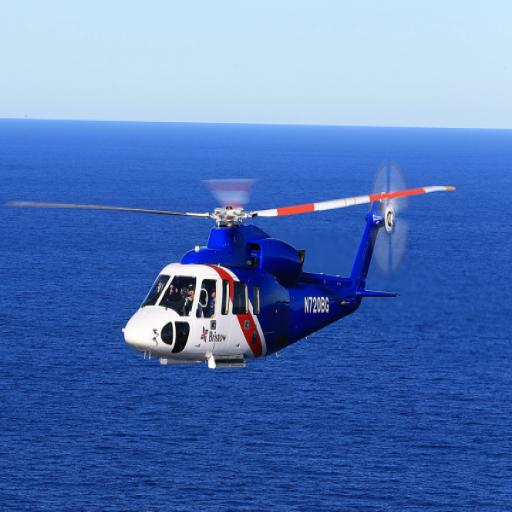helicopter: (7, 171, 458, 372)
